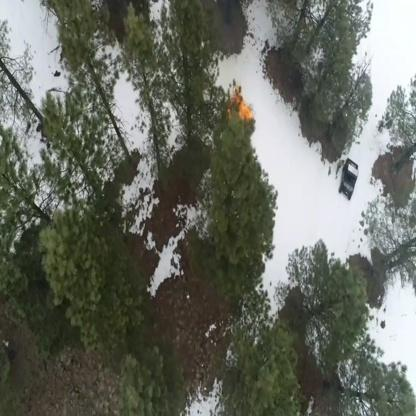Fire: (232, 89, 254, 123)
